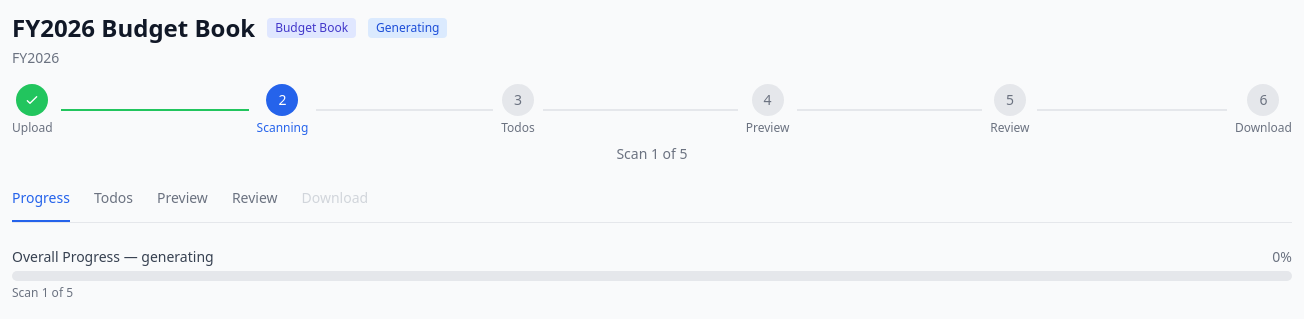
ReportDetailPage › shows scanning message in preview when actively scanning
Click the button "Preview".
click(182, 205)  # box top-left (157, 188), bottom-right (208, 222)
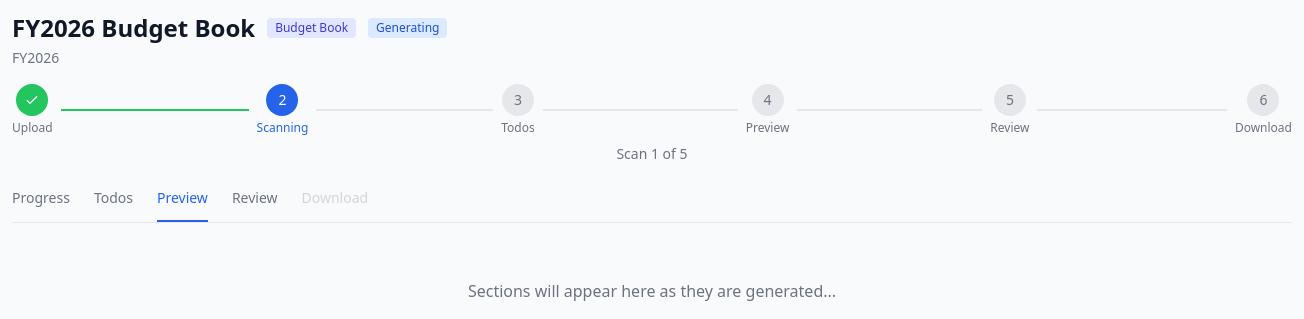
Check: the text "Sections will appear here as they are generated..." is shown, box top-left (468, 280), bottom-right (836, 302)
